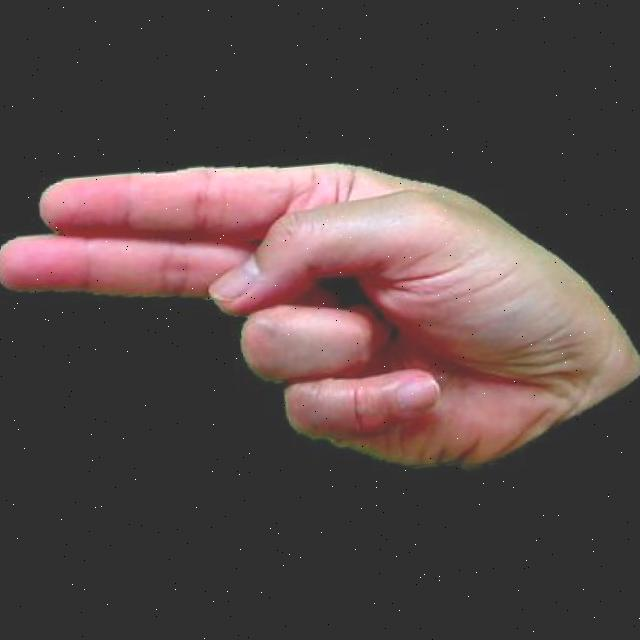h: (0, 120, 640, 512)
